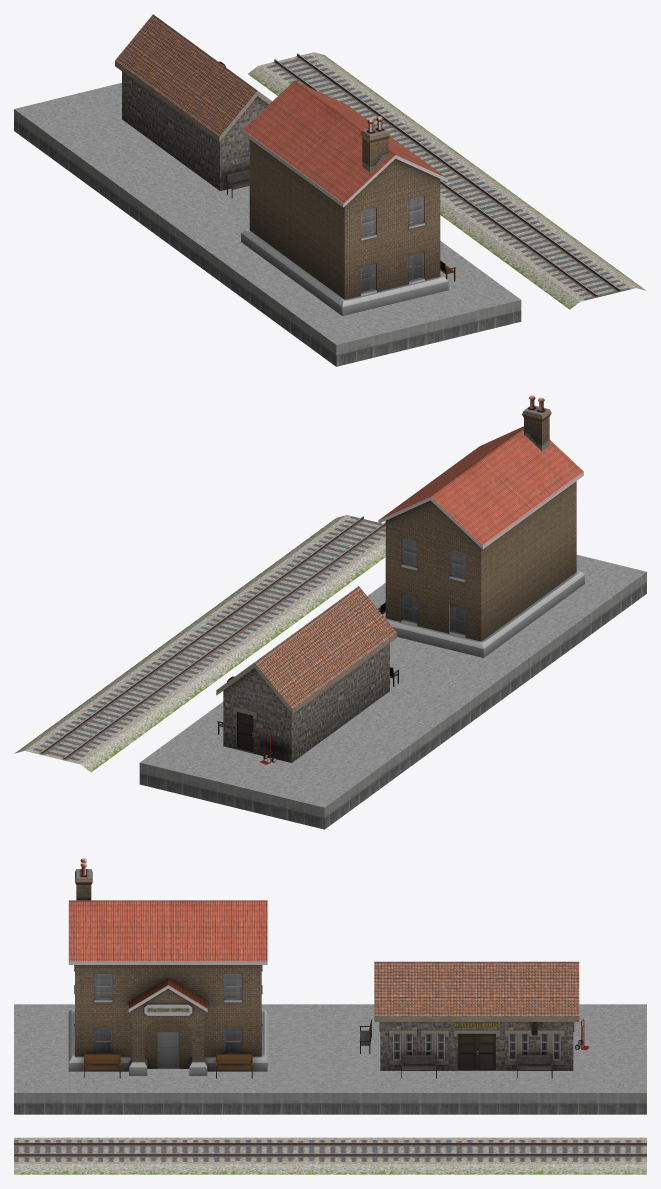
Rendered from StationOffice3.fbx.
3 views of the same model, one above another, from view 1: azimuth 30°, elevation 25°; view 2: azimuth 150°, elevation 25°; view 3: azimuth 270°, elevation 25° (orthographic).
Visible parts, largest first — view 1: U3DMesh; view 2: U3DMesh; view 3: U3DMesh.
Boxes of the visible parts, x1,y1,x2,y2 form: U3DMesh: (14, 14, 646, 366); U3DMesh: (14, 395, 646, 829); U3DMesh: (14, 858, 646, 1174).
Size of the model in its own units: 17.81 by 11.19 by 32.
